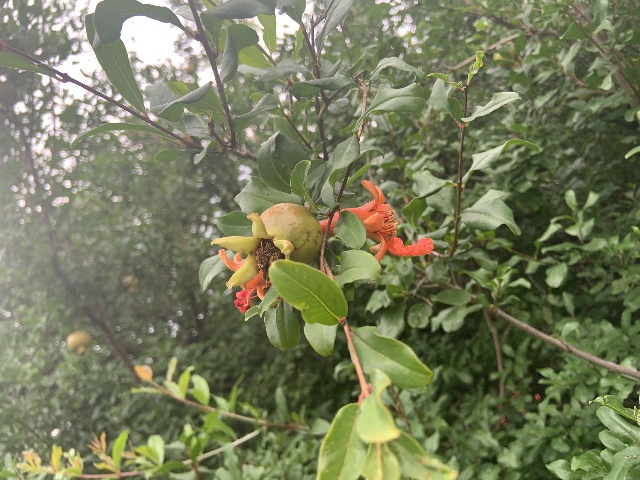early-fruit: (210, 203, 323, 289)
flower: (320, 179, 434, 262), (218, 248, 270, 312)
mid-growth: (66, 331, 92, 356)
